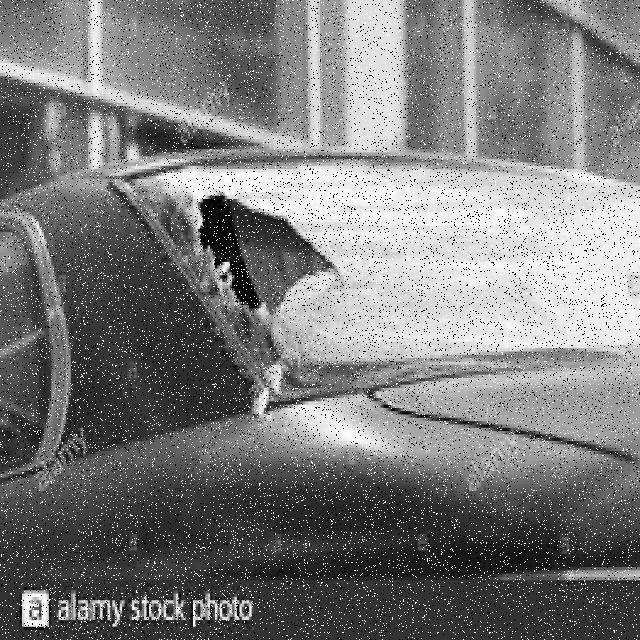Rear-windscreen-Damage: (89, 121, 638, 436)
